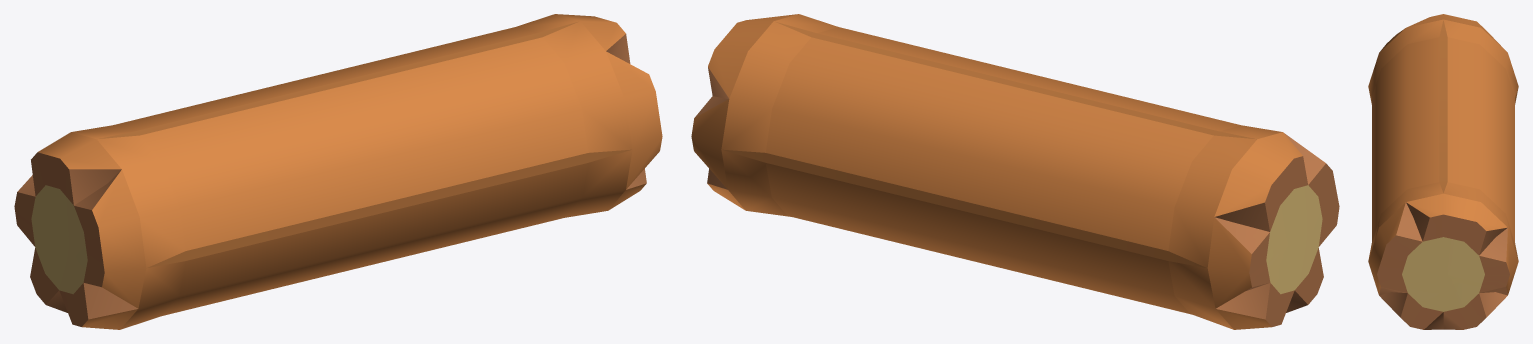
File: Resources_Wood.FBX
The picture shows the model from 3 angles, left to right: view 1: azimuth 30°, elevation 25°; view 2: azimuth 150°, elevation 25°; view 3: azimuth 270°, elevation 25°; orthographic projection. The views are drawn at different scales.
Visible parts, largest first — view 1: Resources_Wood; view 2: Resources_Wood; view 3: Resources_Wood.
Part boxes in pixels (box(x1,y1,x2,y2)): Resources_Wood: box(14, 14, 662, 329); Resources_Wood: box(691, 14, 1339, 329); Resources_Wood: box(1368, 14, 1518, 329).
Size of the model in its own units: 156 by 48.66 by 49.17.
Materials: 1 (1 with a texture image).
